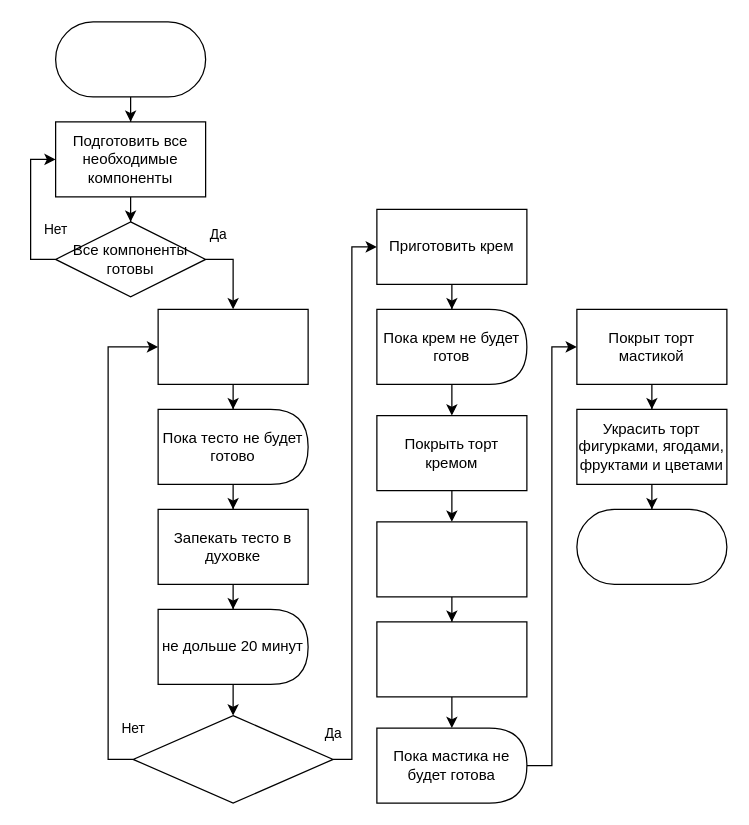
This 749x825 diagram has some shape labels left out. Here are the shapes that lost their labels. From the top down, the box of each, then its label:
(54, 21, 206, 97): Начало
(157, 308, 308, 384): Замесить тесто и бисквит
(376, 521, 527, 597): Установить в торт палочки для устойчивости
(576, 508, 727, 584): Конец
(376, 621, 527, 697): Приготовить мастику
(132, 714, 333, 803): Количество уровней соответствует заказу?
